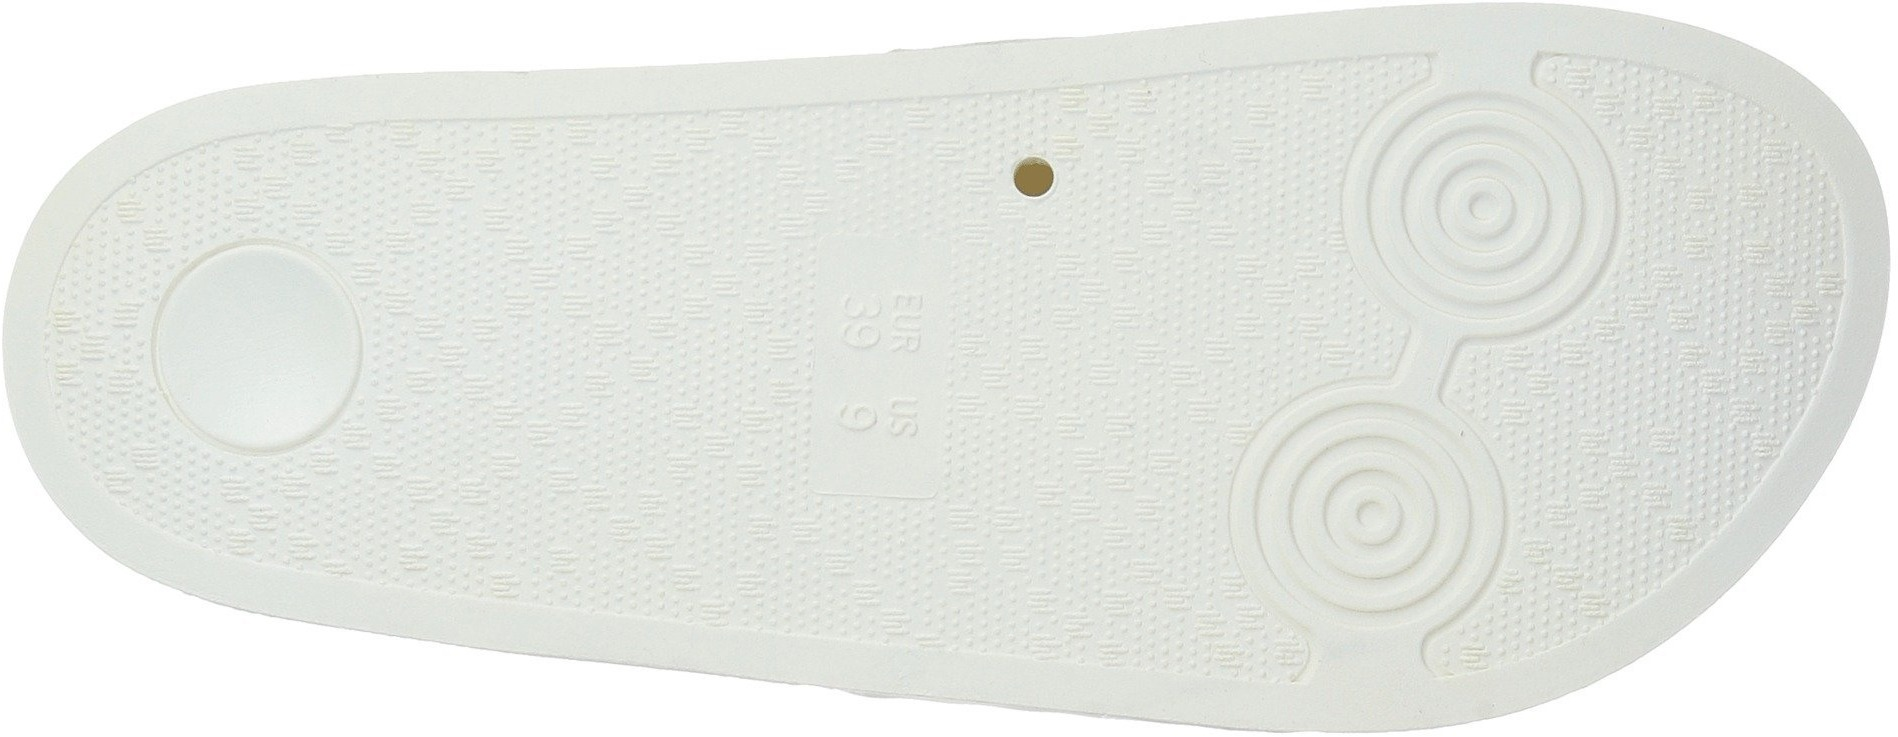circle: (1361, 102, 1611, 324), (148, 240, 386, 463), (1256, 404, 1478, 637)
text: (815, 272, 954, 395), (841, 404, 945, 511)
